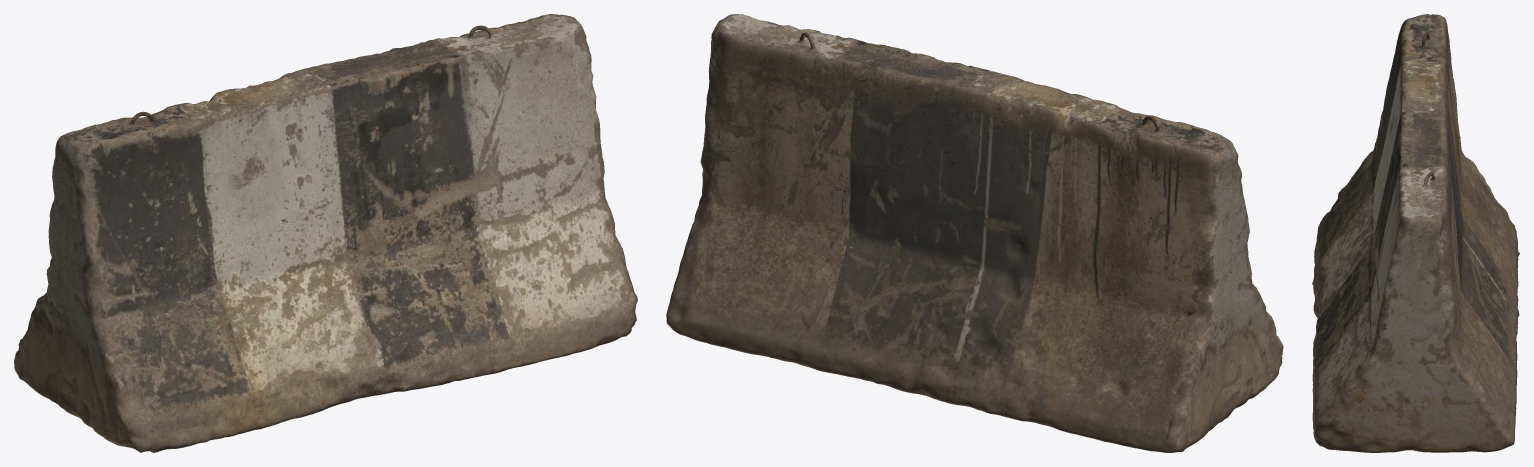
The model's file is concrete_road_barrier.glb.
The picture shows the model from 3 angles, left to right: view 1: azimuth 30°, elevation 25°; view 2: azimuth 150°, elevation 25°; view 3: azimuth 270°, elevation 25°; orthographic projection. The views are drawn at different scales.
Visible parts, largest first — view 1: concrete_road_barrier; view 2: concrete_road_barrier; view 3: concrete_road_barrier.
Part boxes in pixels (left/top/right/bottom): concrete_road_barrier: left=14, top=14, right=637, bottom=452; concrete_road_barrier: left=666, top=14, right=1283, bottom=452; concrete_road_barrier: left=1312, top=14, right=1519, bottom=452.
Size of the model in its own units: 1.55 by 0.8311 by 0.6388.
Materials: 1 (1 with a texture image).
